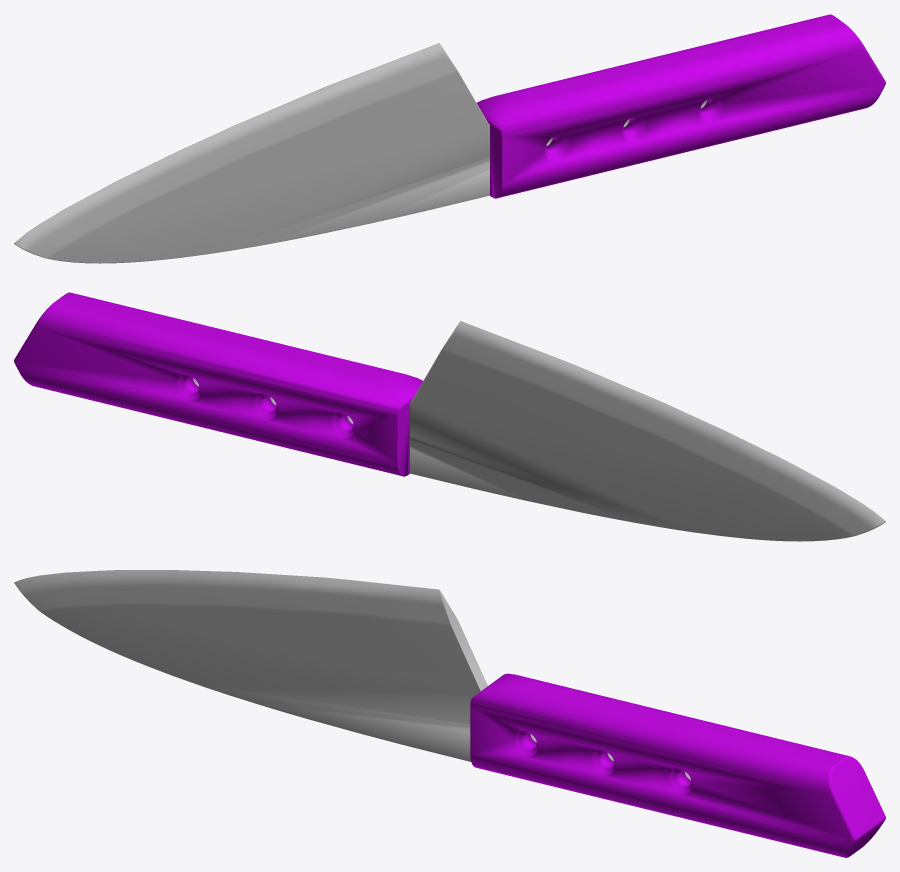
Rendered from couteau_t.fbx.
3 renders of one model, top to bottom at view 1: azimuth 30°, elevation 25°; view 2: azimuth 150°, elevation 25°; view 3: azimuth 330°, elevation 25°, orthographic.
Visible parts, largest first — view 1: Object; view 2: Object; view 3: Object.
Part boxes in pixels (box(x1,y1,x2,y2)): Object: box(14, 14, 885, 263); Object: box(14, 292, 885, 541); Object: box(14, 570, 885, 857).
Size of the model in its own units: 32.1 by 5.78 by 2.08.
